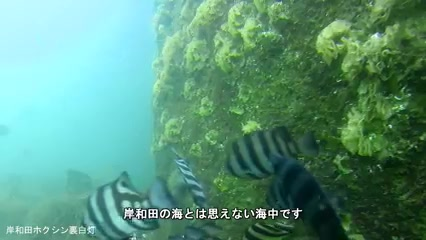ishidai: (213, 123, 317, 180)
